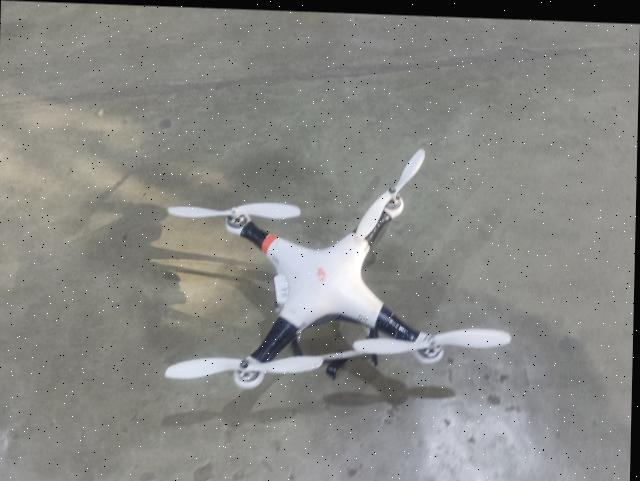drone: (118, 119, 541, 415)
